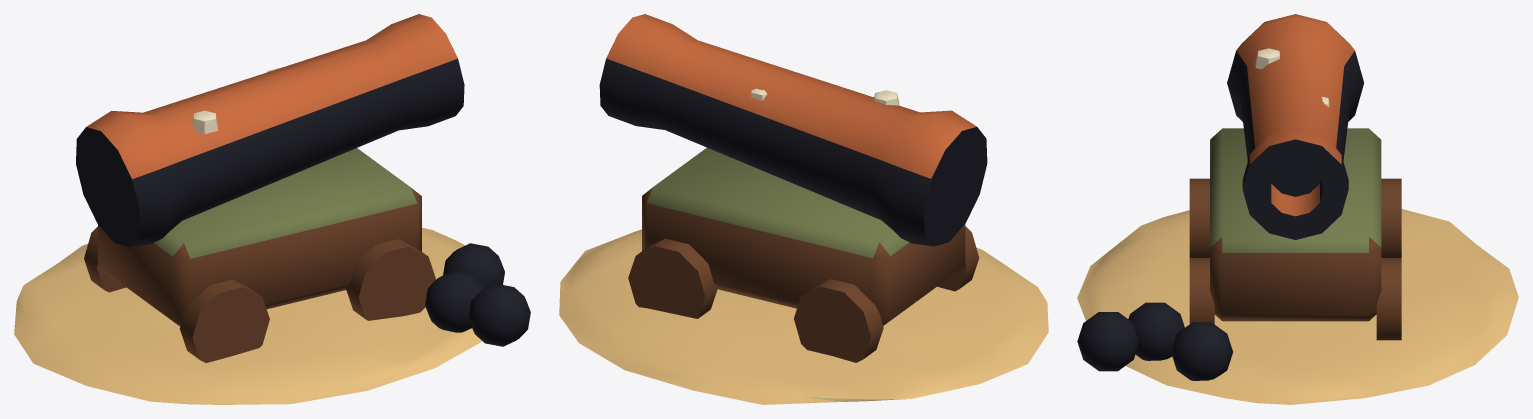
The model's file is CannonWreck.fbx.
3 renders of one model, left to right at view 1: azimuth 30°, elevation 25°; view 2: azimuth 150°, elevation 25°; view 3: azimuth 270°, elevation 25°, orthographic. The views are drawn at different scales.
Visible parts, largest first — view 1: CannonWreck; view 2: CannonWreck; view 3: CannonWreck.
Boxes of the visible parts, box(x1,y1,x2,y2) form: CannonWreck: box(14, 14, 530, 404); CannonWreck: box(559, 14, 1048, 404); CannonWreck: box(1077, 14, 1518, 404).
Size of the model in its own units: 1.62 by 0.8624 by 1.42.
1 material, 1 textured.
